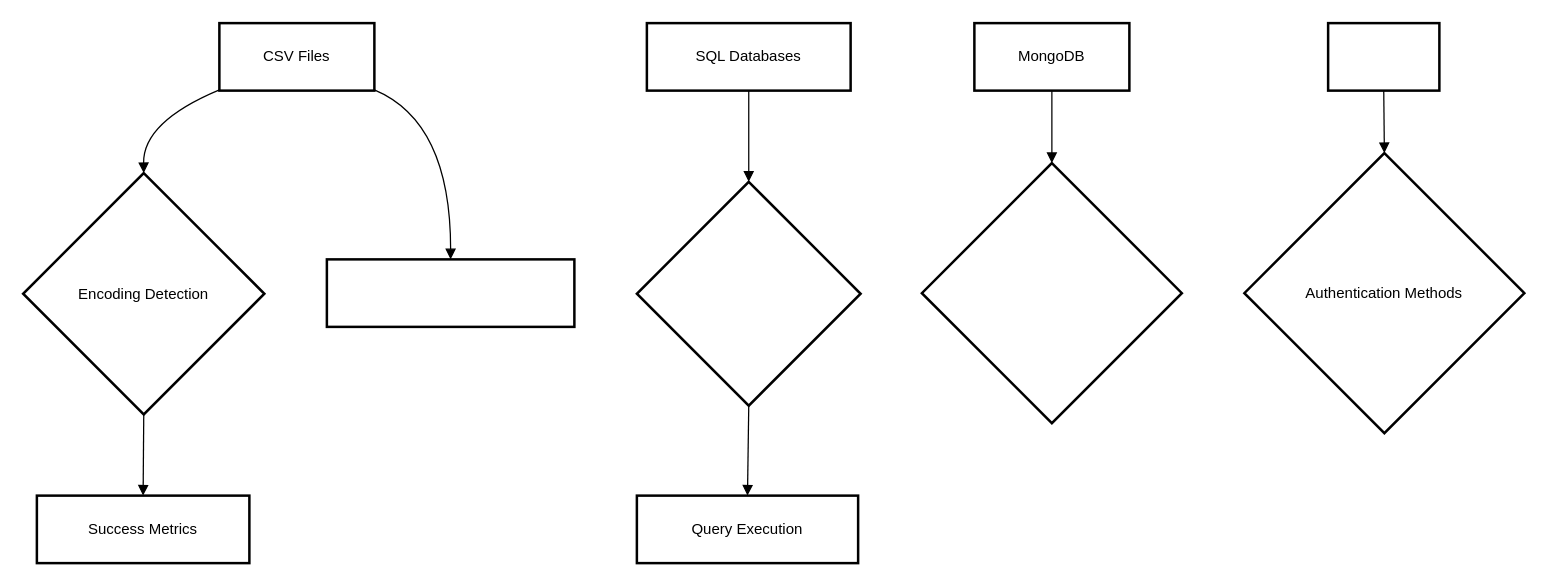
Image size: 1546x585. Some labels were removed from this diagram. The shapes that lost their labels are listed below. From the top down, each one's centre as x and y in pixels, then its label:
the point at 1383,56: APIs
the point at 450,293: Large File Handling
the point at 748,293: Connection Types
the point at 1051,292: Aggregation Pipelines
